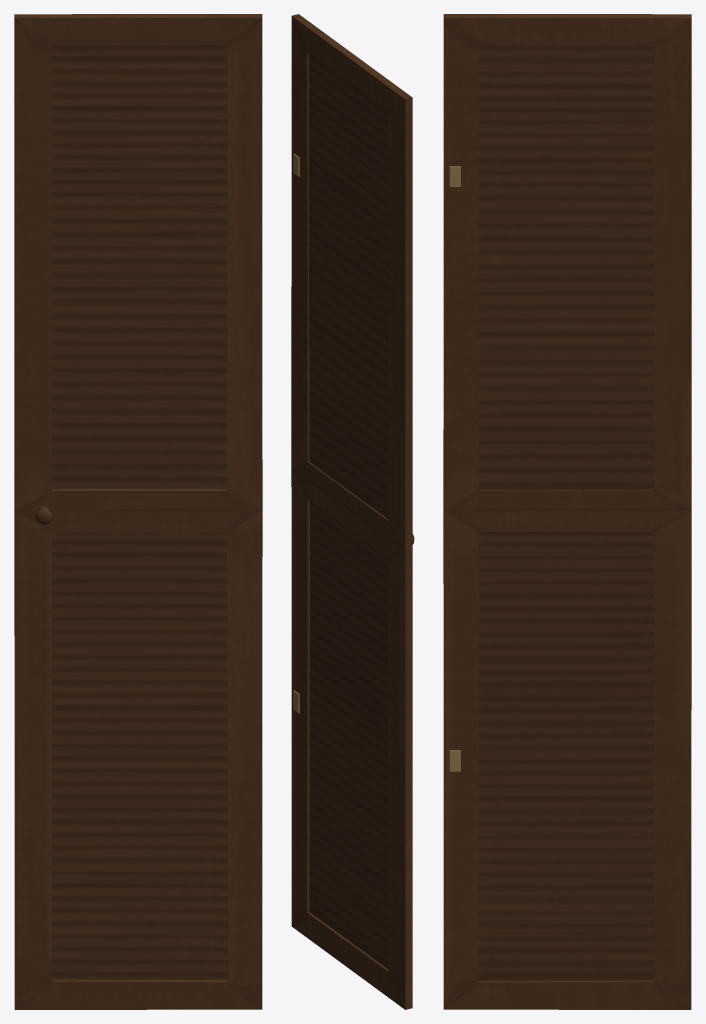
The model's file is SM_Cabinets_B1_Door2.fbx.
3 renders of one model, left to right at view 1: azimuth 90°, elevation 25°; view 2: azimuth 210°, elevation 25°; view 3: azimuth 270°, elevation 25°, orthographic. The views are drawn at different scales.
Parts seen in each view (by area): view 1: SM_Cabinets_B1_Door2; view 2: SM_Cabinets_B1_Door2; view 3: SM_Cabinets_B1_Door2.
Part boxes in pixels (x1,y1,x2,y2): SM_Cabinets_B1_Door2: (14, 14, 262, 1009); SM_Cabinets_B1_Door2: (291, 14, 414, 1009); SM_Cabinets_B1_Door2: (443, 14, 691, 1009).
Bounding box in the file's own units: 5.08 × 46.08 × 203.
Materials: 2 (2 with a texture image).
